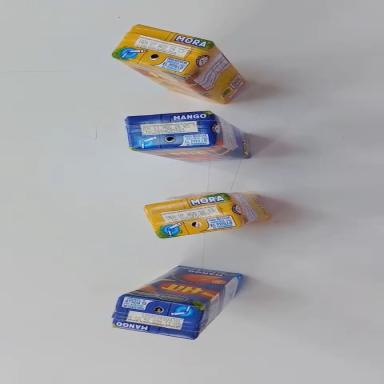HIT-MANGO: (111, 257, 242, 345), (126, 108, 250, 166)
HIT-MORA: (107, 16, 252, 110), (144, 186, 270, 241)
cara_F: (122, 259, 239, 312), (109, 58, 228, 105), (133, 142, 250, 166)
